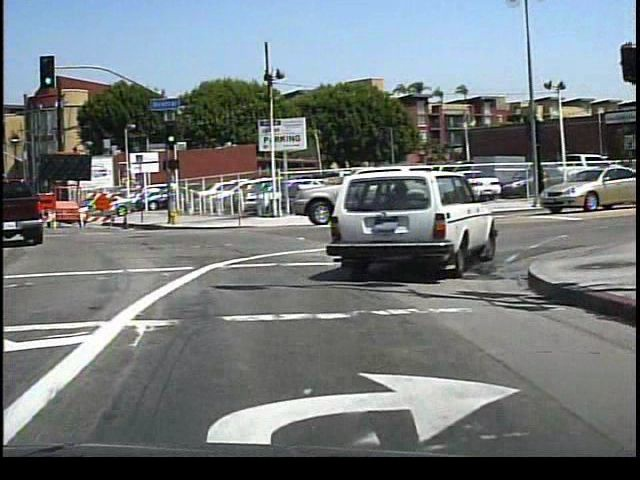person: (529, 162, 548, 206)
